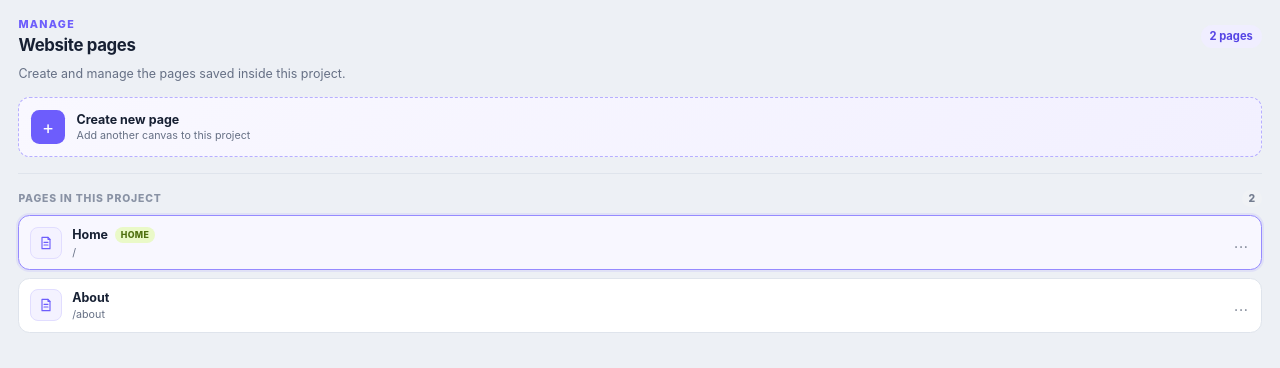
Test: PagesPanel › should close an expanded action menu when its toggle is clicked again
This screenshot has width=1280, height=368.
Click the button named "Actions for About": coordinates (1241, 306) [1225, 290, 1257, 322]
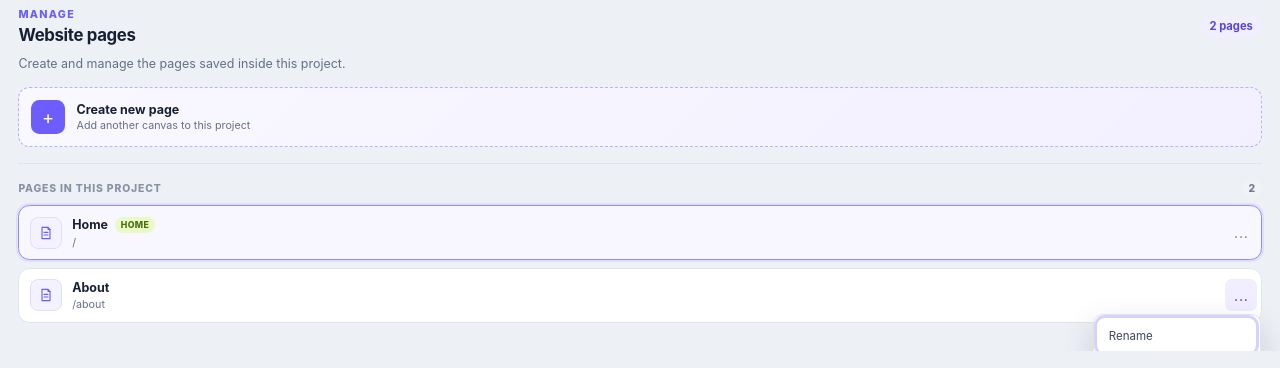
Click the button named "Actions for About": coordinates (1241, 296) [1225, 280, 1257, 312]
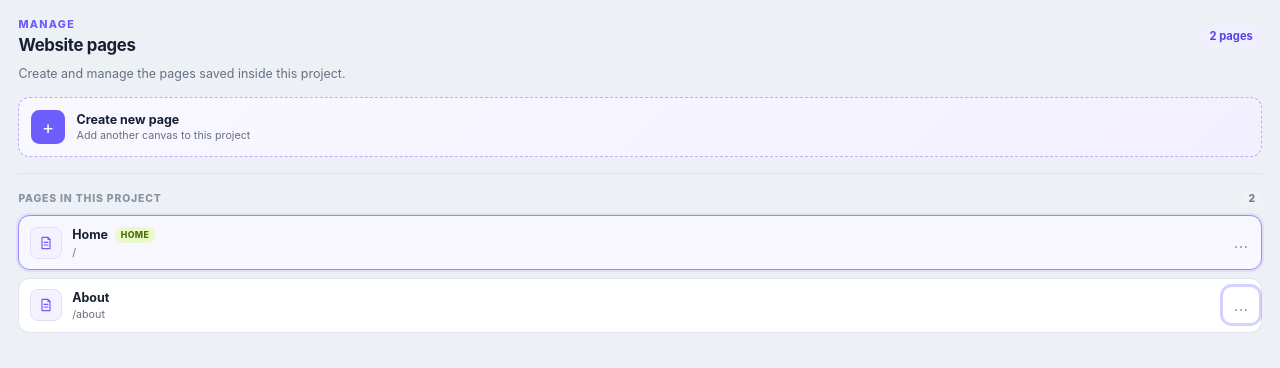
expect the button named "Actions for About" is collapsed: met, box [1225, 290, 1257, 322]
